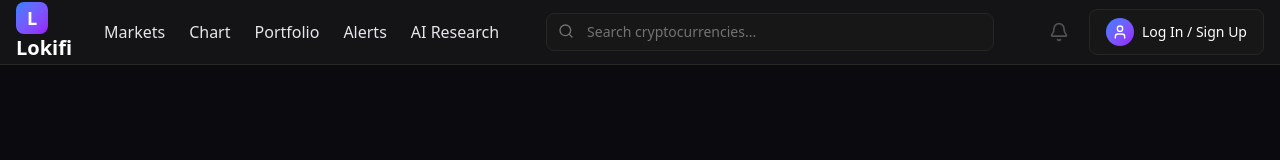
GlobalHeader › Search › should clear search on clear button click
The width and height of the screenshot is (1280, 160).
Type "ETH" into the field with placeholder "Search cryptocurrencies..." at (770, 32), box [546, 13, 994, 51]
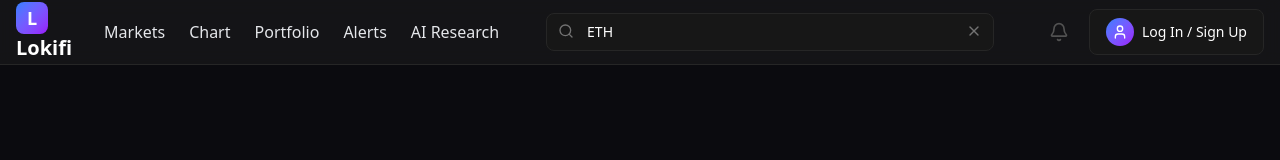
Focus the field with placeholder "Search cryptocurrencies..." at (770, 32), box [546, 13, 994, 51]
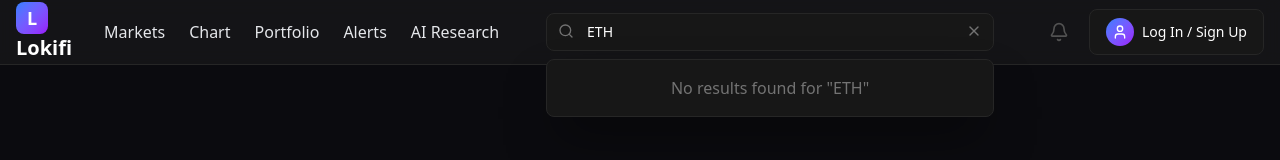
Click the button named "clear search" at (974, 31), box [966, 23, 982, 39]
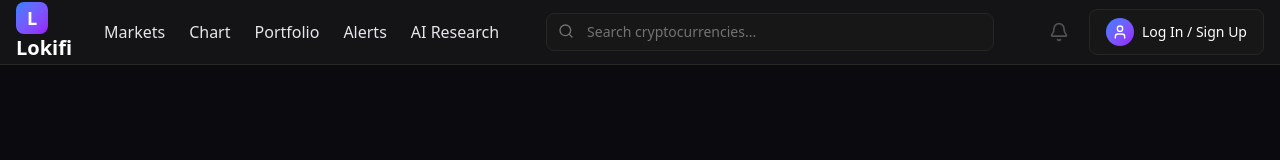
expect the field with placeholder "Search cryptocurrencies..." is empty: met, box [546, 13, 994, 51]
